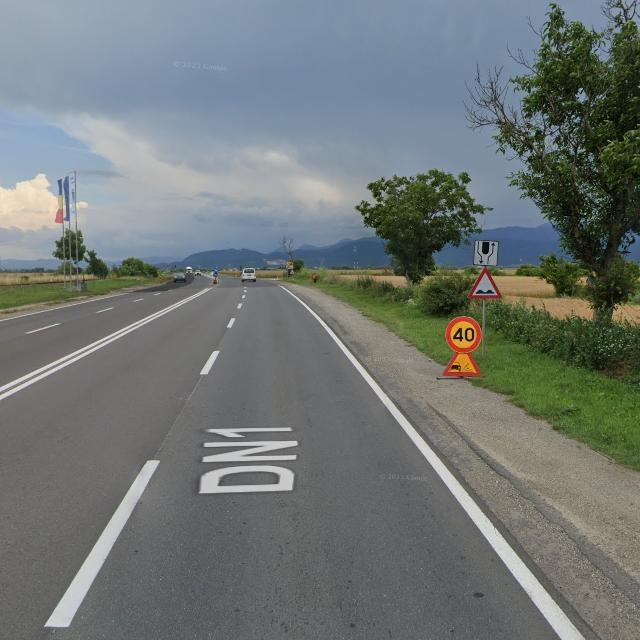forb_speed_over_40: (445, 316, 483, 354)
